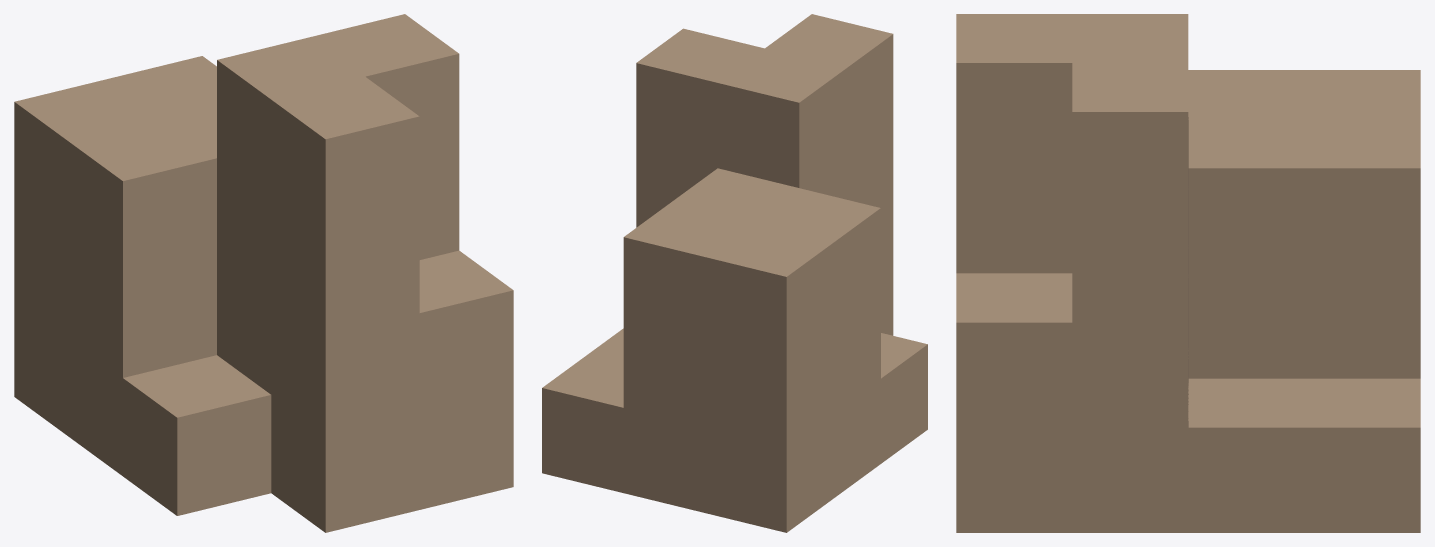
Rendered from BS_Stone_2.fbx.
3 views of the same model, side by side, from view 1: azimuth 30°, elevation 25°; view 2: azimuth 150°, elevation 25°; view 3: azimuth 270°, elevation 25° (orthographic). The views are drawn at different scales.
Parts seen in each view (by area): view 1: BS_Stone_2; view 2: BS_Stone_2; view 3: BS_Stone_2.
Part boxes in pixels (x1,y1,x2,y2): BS_Stone_2: (14, 14, 513, 532); BS_Stone_2: (542, 14, 927, 532); BS_Stone_2: (956, 14, 1420, 532).
Bounding box in the file's own units: 7.5 × 10 × 10.
